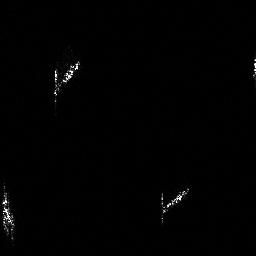ship: (155, 181, 194, 227), (49, 57, 84, 105), (1, 180, 18, 243)
